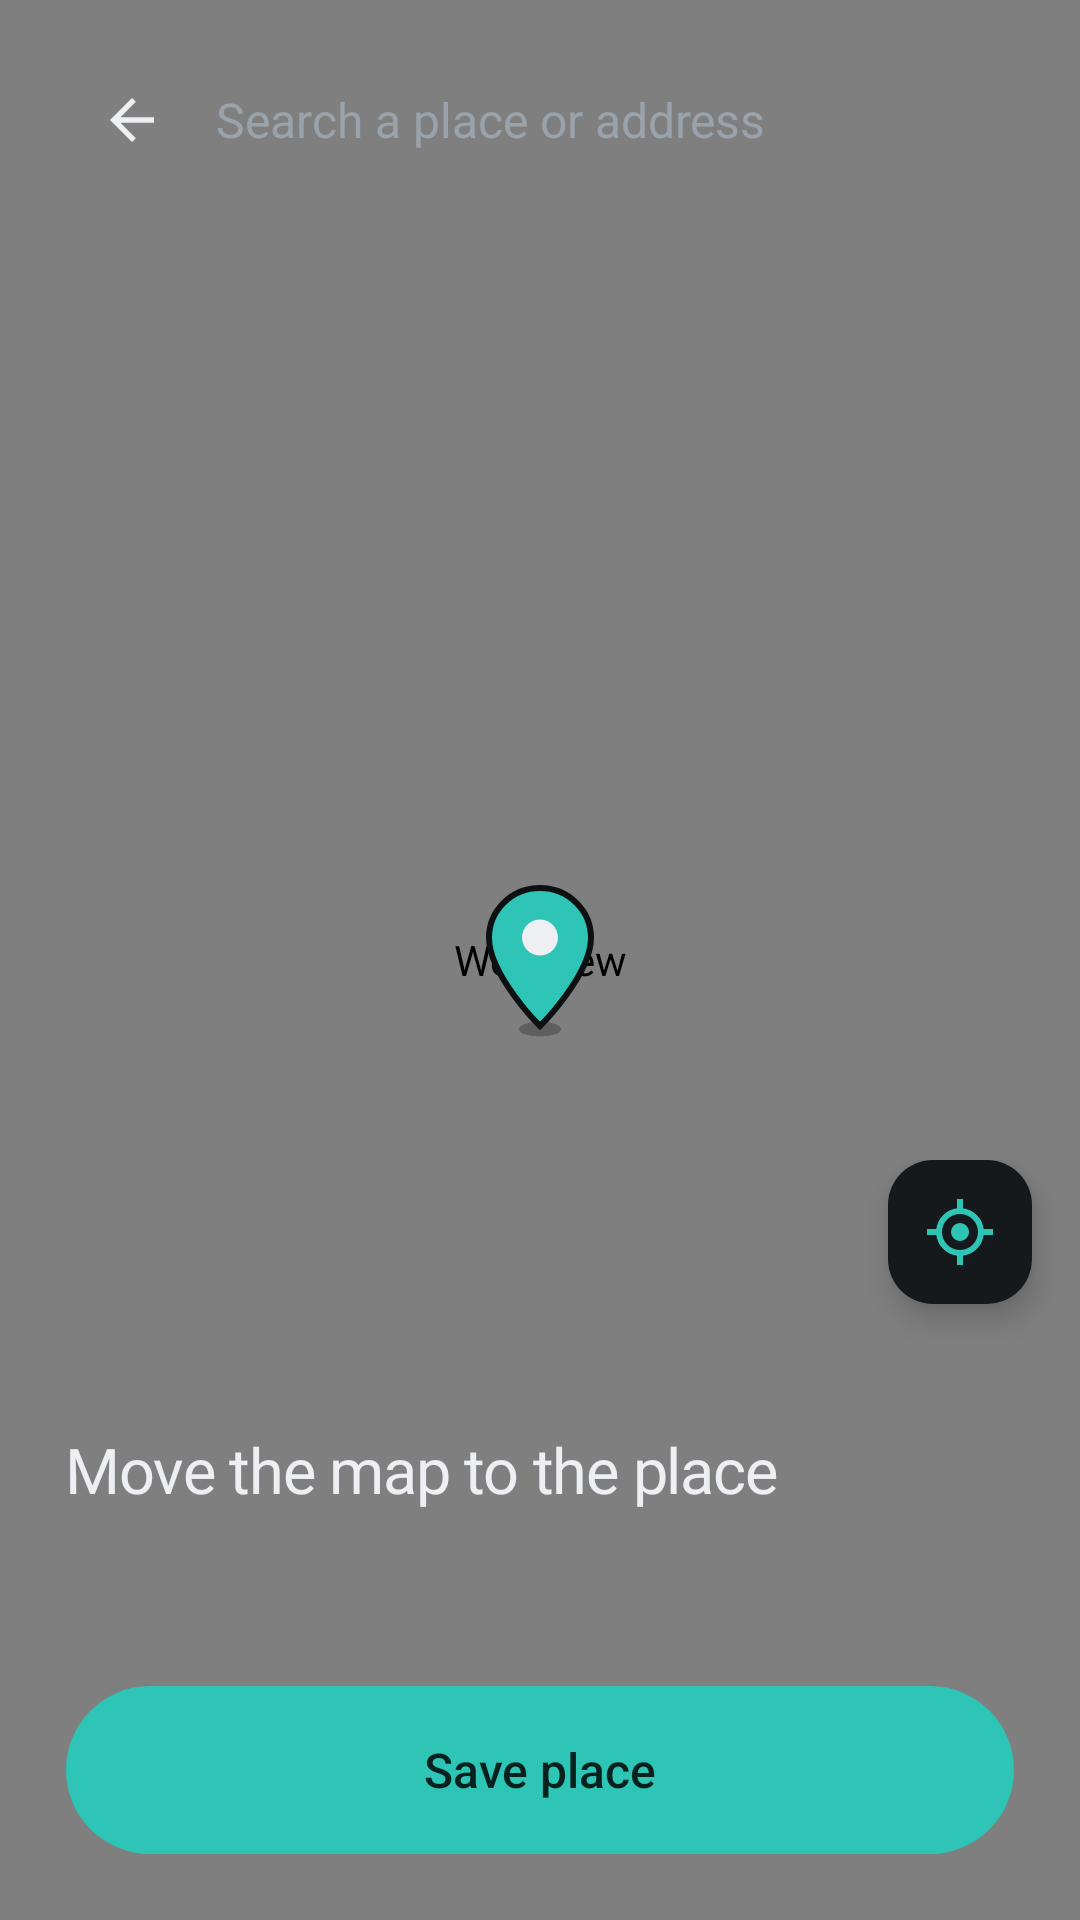

Icon click points for this 1080w x 1920h phone screenshot, format [x,y]:
Back: [132,120]
My location: [960,1232]
pin: [540,960]
